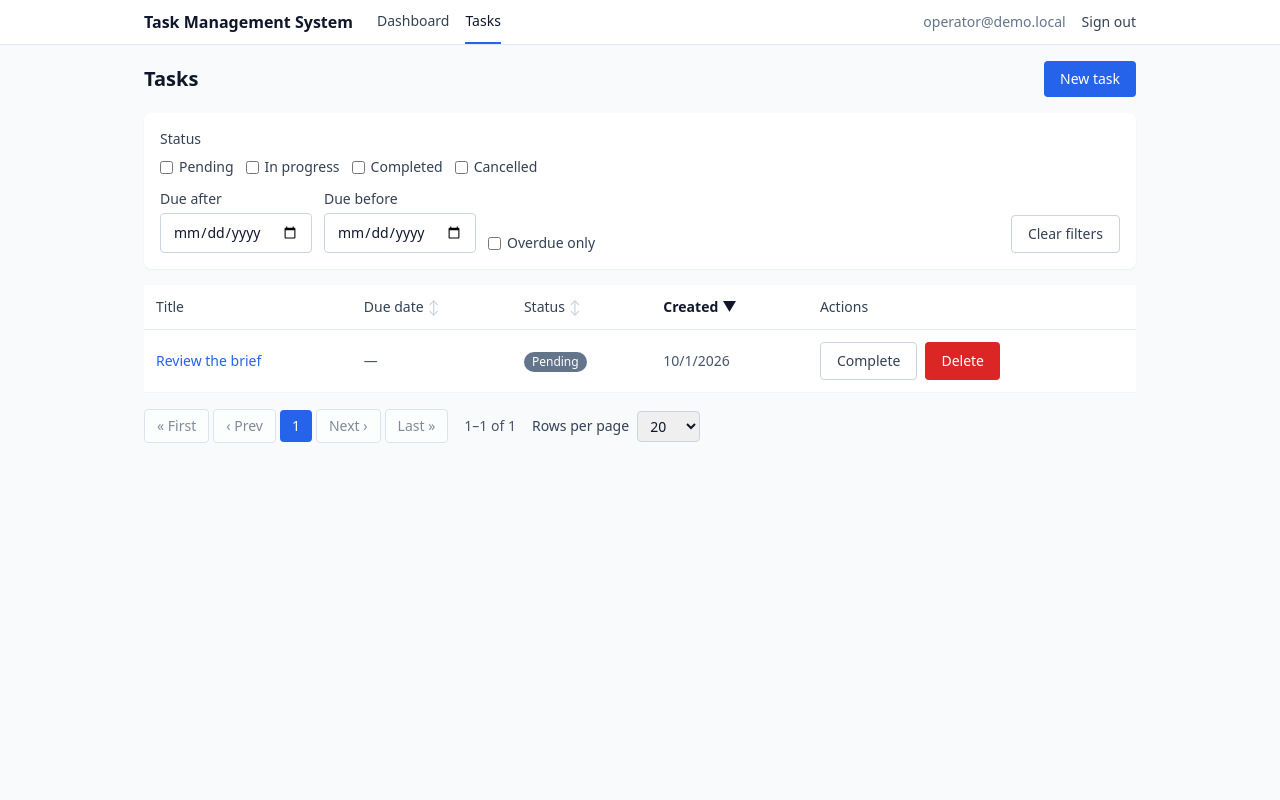
Test case: task deletion from the list › asks for confirmation, naming the task, and Cancel deletes nothing
The image size is (1280, 800).
Click the button with aria-label "delete review the brief" at (963, 361), box x1=925 y1=342 x2=1000 y2=380
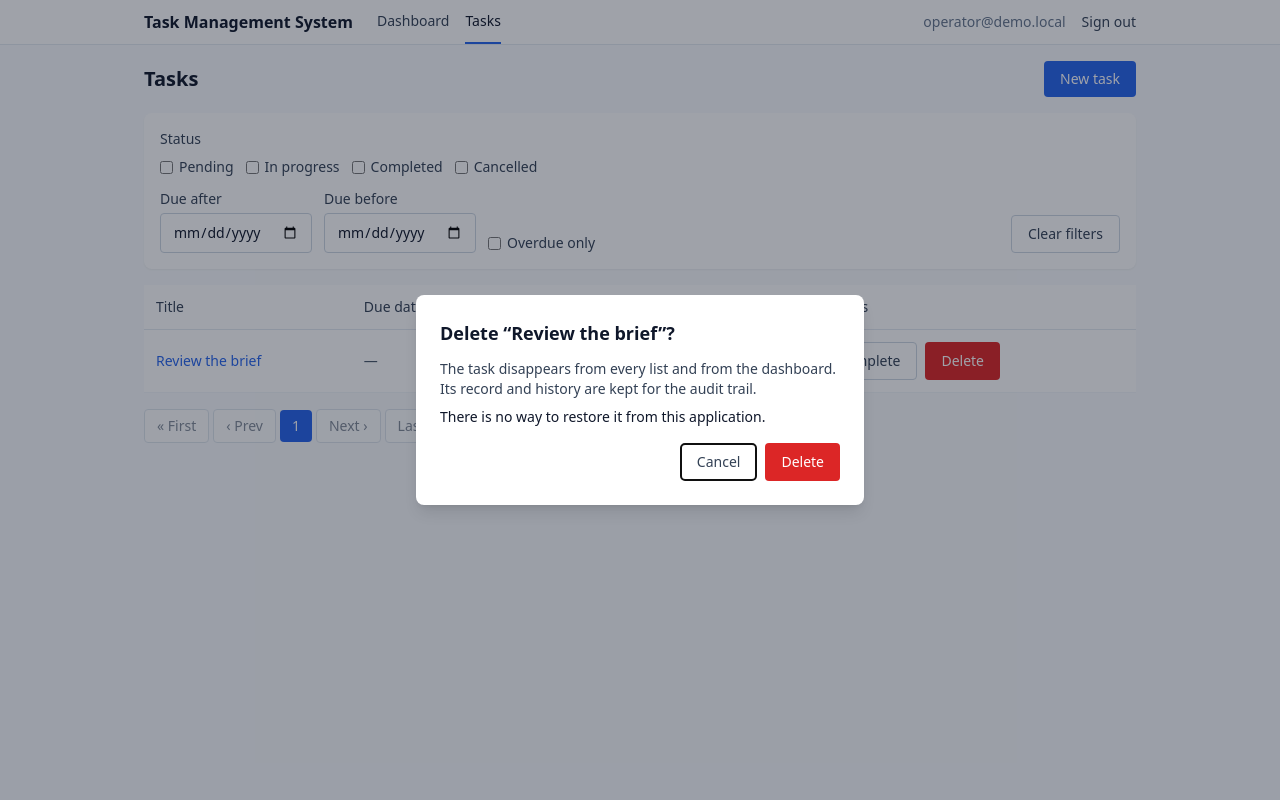
Check: the dialog shows "Review the brief", box x1=511 y1=321 x2=658 y2=345
Check: the dialog shows "no way to restore", box x1=440 y1=407 x2=766 y2=426
Click the button "Cancel" at (719, 462), box x1=680 y1=443 x2=757 y2=481
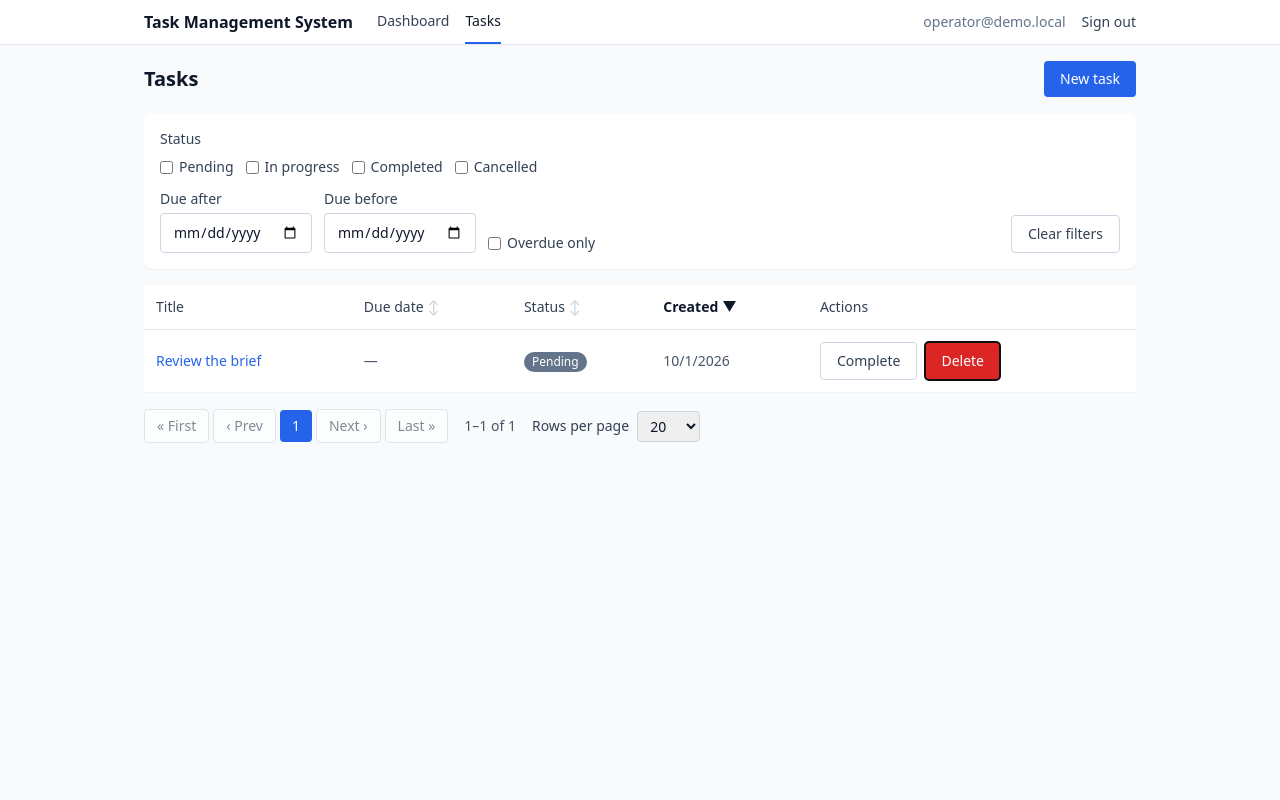
Check: the dialog is gone
